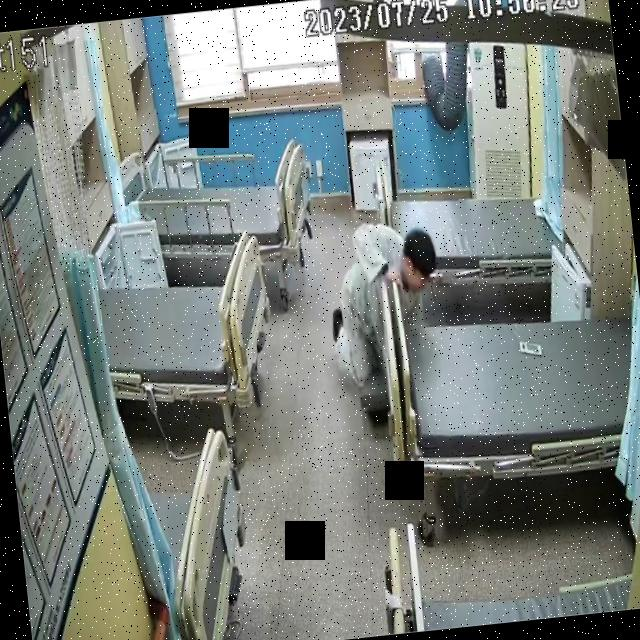bed: (397, 294, 640, 492), (93, 228, 283, 422), (117, 134, 314, 274), (374, 158, 566, 298)
fall: (320, 214, 448, 390)
patient: (321, 216, 447, 390)
